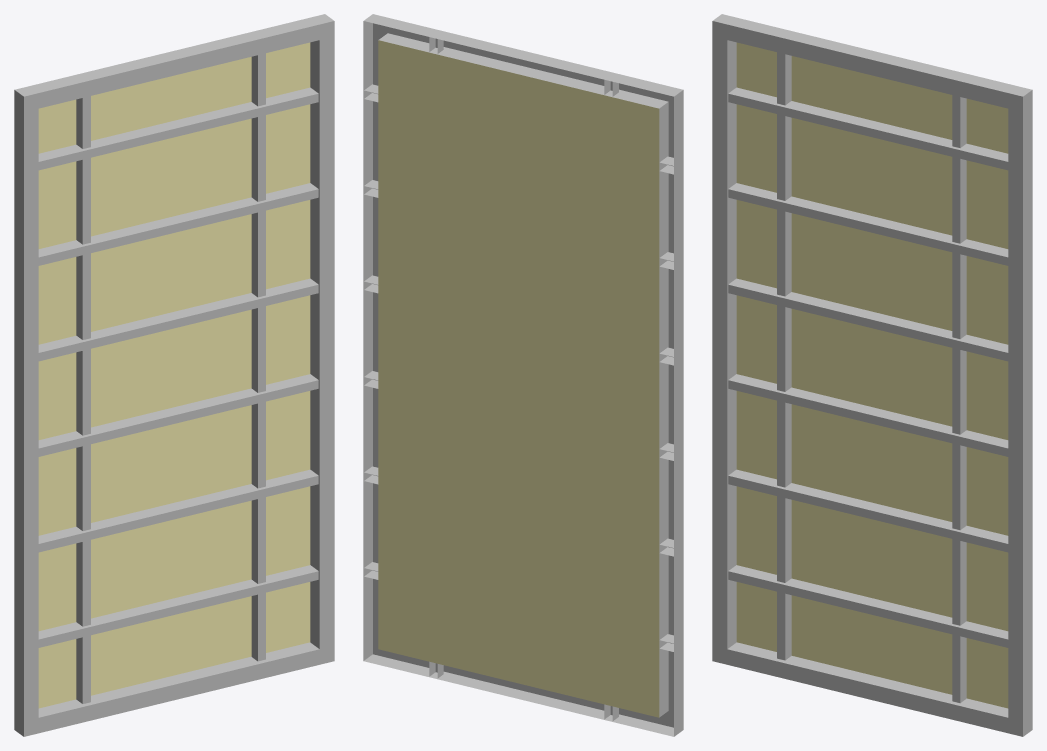
The model's file is Wall_Lrg_Window_Panel.FBX.
3 views of the same model, side by side, from view 1: azimuth 30°, elevation 25°; view 2: azimuth 150°, elevation 25°; view 3: azimuth 330°, elevation 25° (orthographic).
Visible parts, largest first — view 1: Wall_Lrg_Window_Panel; view 2: Wall_Lrg_Window_Panel; view 3: Wall_Lrg_Window_Panel.
Part boxes in pixels (bbox=[...]): Wall_Lrg_Window_Panel: bbox=[14, 14, 334, 736]; Wall_Lrg_Window_Panel: bbox=[363, 14, 683, 736]; Wall_Lrg_Window_Panel: bbox=[712, 14, 1032, 736].
Size of the model in its own units: 2.09 by 4.11 by 0.11.
